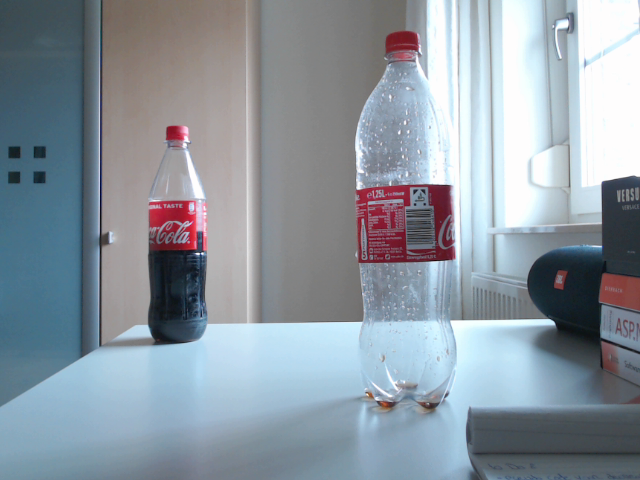bottle: (353, 29, 458, 413), (147, 125, 207, 344)
